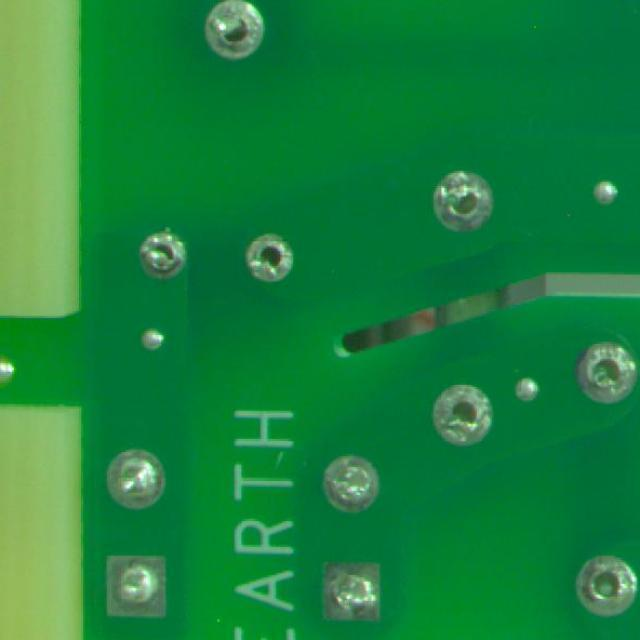Insufficient solder: (90, 535, 182, 624), (423, 154, 498, 250), (317, 542, 386, 630), (565, 542, 640, 620), (568, 333, 640, 410), (424, 378, 499, 451), (310, 450, 380, 522), (196, 0, 268, 68), (238, 220, 298, 290), (106, 448, 175, 506), (128, 227, 194, 280)
